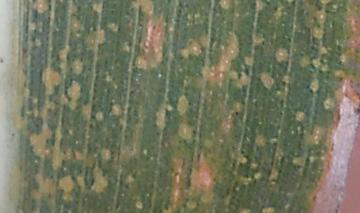tarspot: (233, 109, 242, 118), (355, 104, 360, 115), (191, 128, 197, 135)
